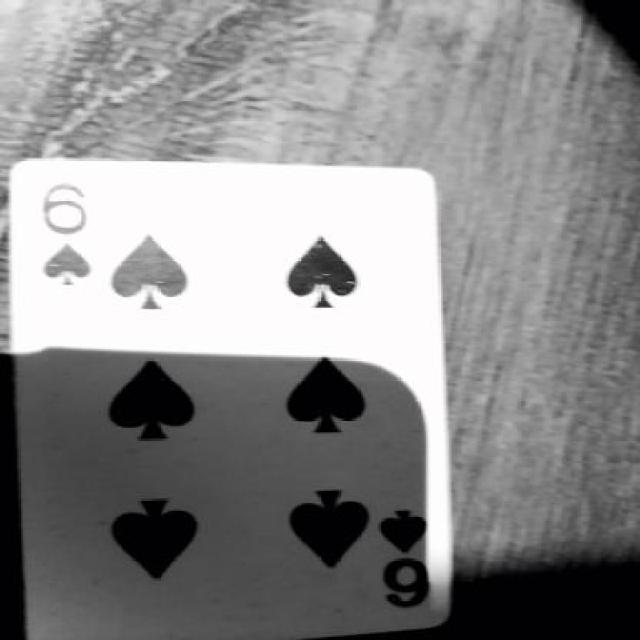6S: (370, 492, 448, 628), (22, 173, 102, 298)
